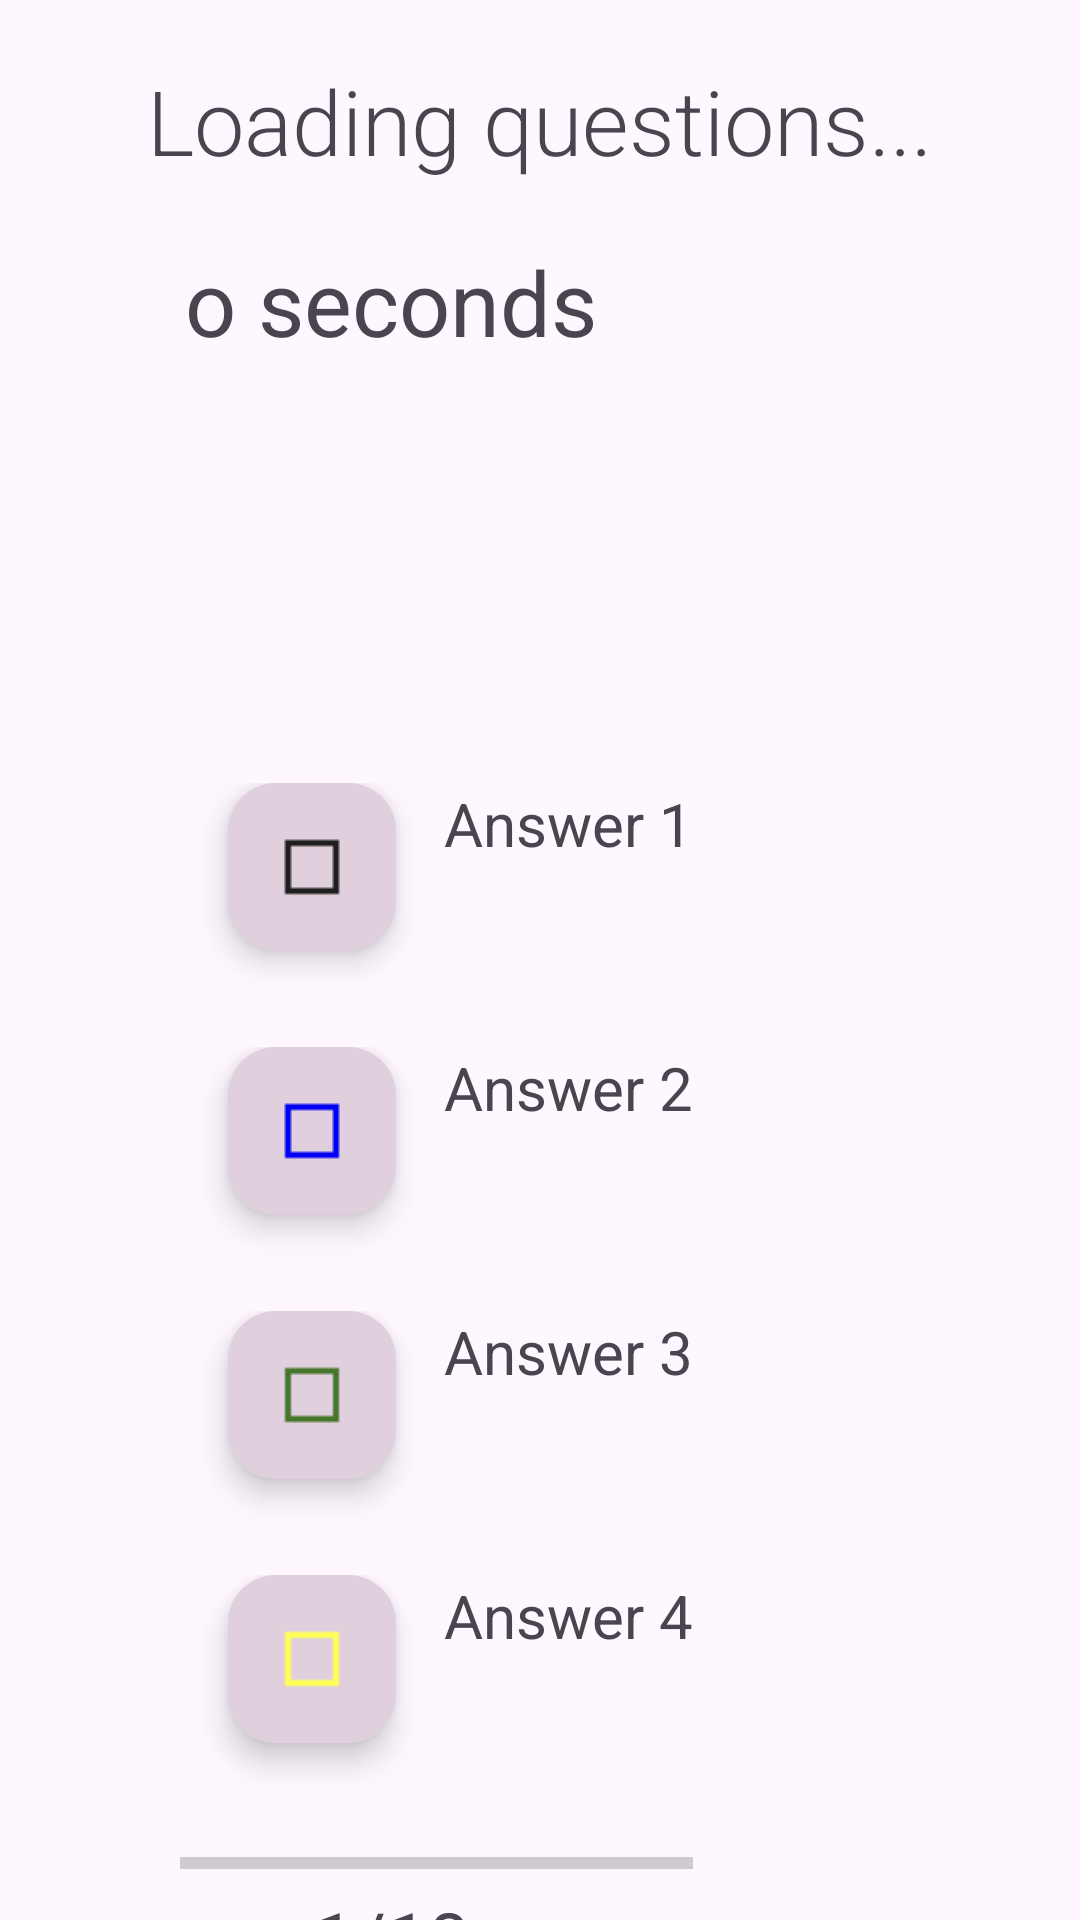

Named icons in this screenshot (1080px x 1920px) and their centers, (x,y):
square: (312,867), (312,1131), (312,1395), (312,1659)
